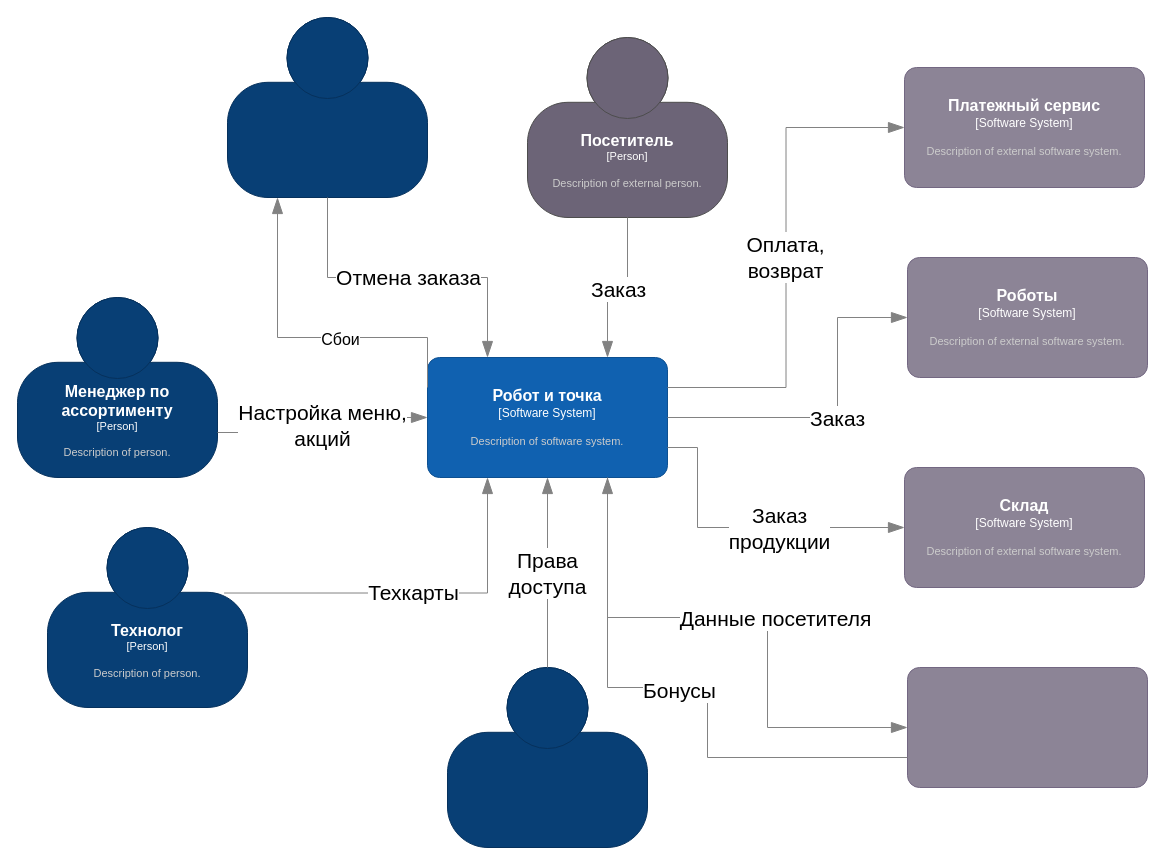
The diagram is 1165 pixels wide and 865 high, and some of its shapes have lost their labels. Here are the shapes that lost their labels. From the top down, the centre of each, then its label:
the point at 327,107: Менеджер по гостеприимству [Person] Description of person.
the point at 1027,727: Система лояльности [Software System] Description of external software system.
the point at 547,757: Администратор [Person] Description of person.
